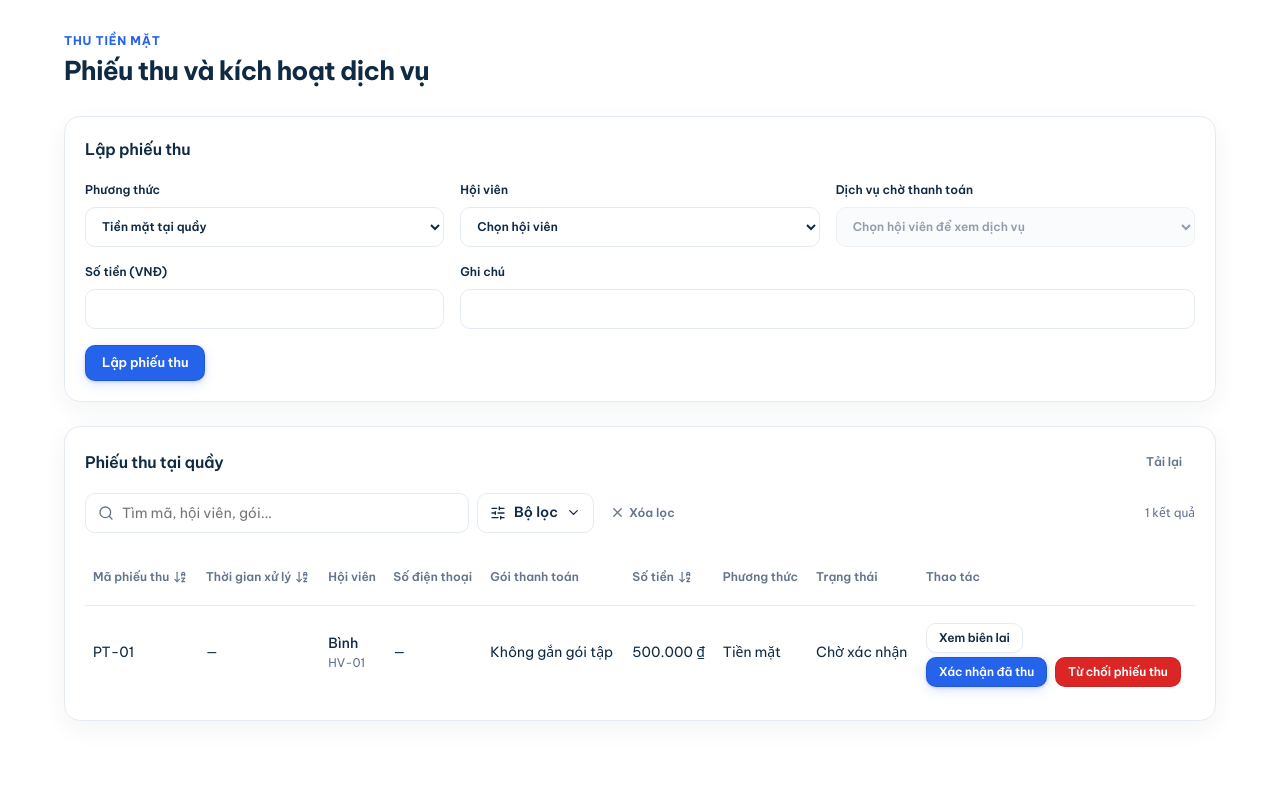
PaymentsPage › reports a paid service requiring review without claiming activation
The image size is (1280, 800).
Click the button "Xác nhận đã thu" at (986, 672), box top-left (926, 657), bottom-right (1047, 687)
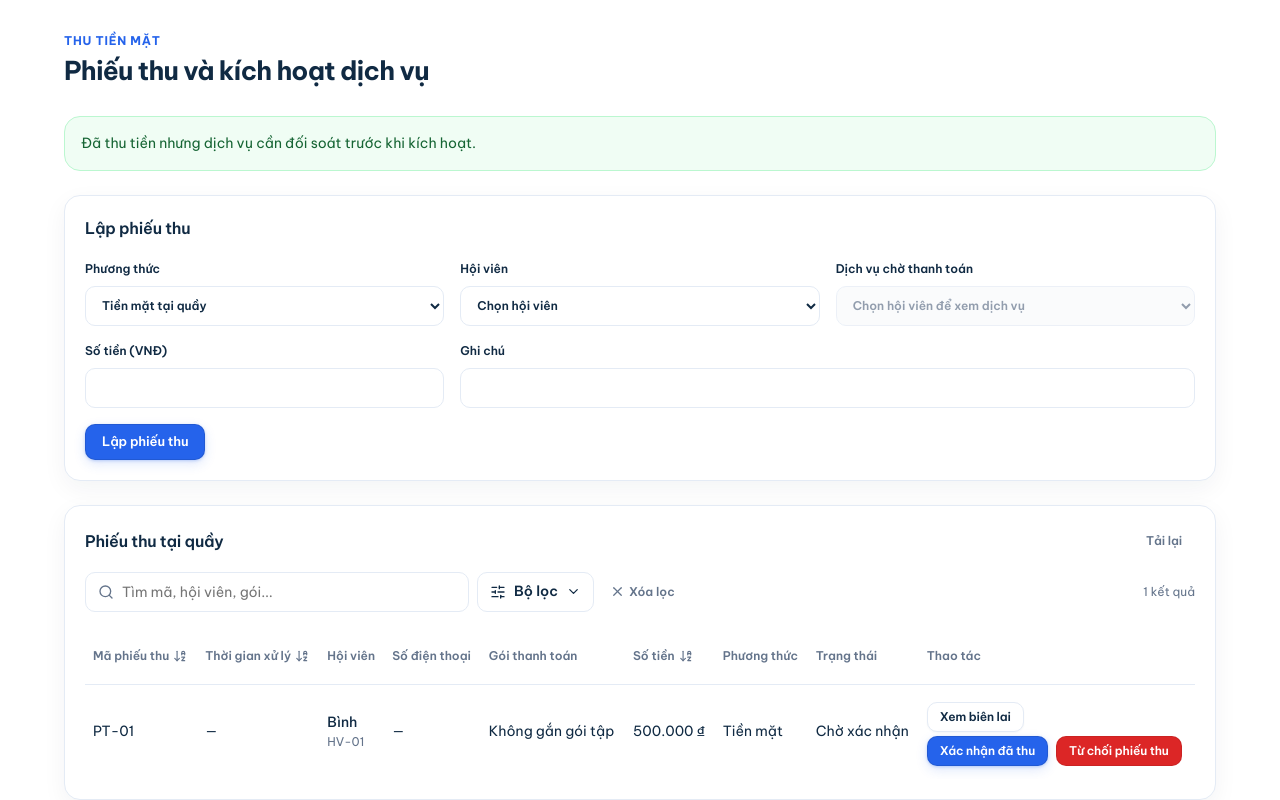
Expected: the text "Đã thu tiền nhưng dịch vụ cần đối soát trước khi kích hoạt." is shown, top-left (64, 116), bottom-right (1216, 171)
